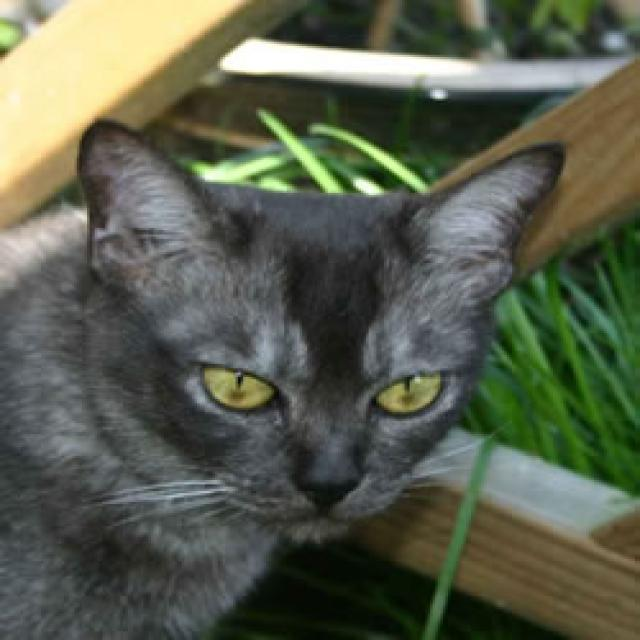Bombay: (74, 116, 561, 537)
